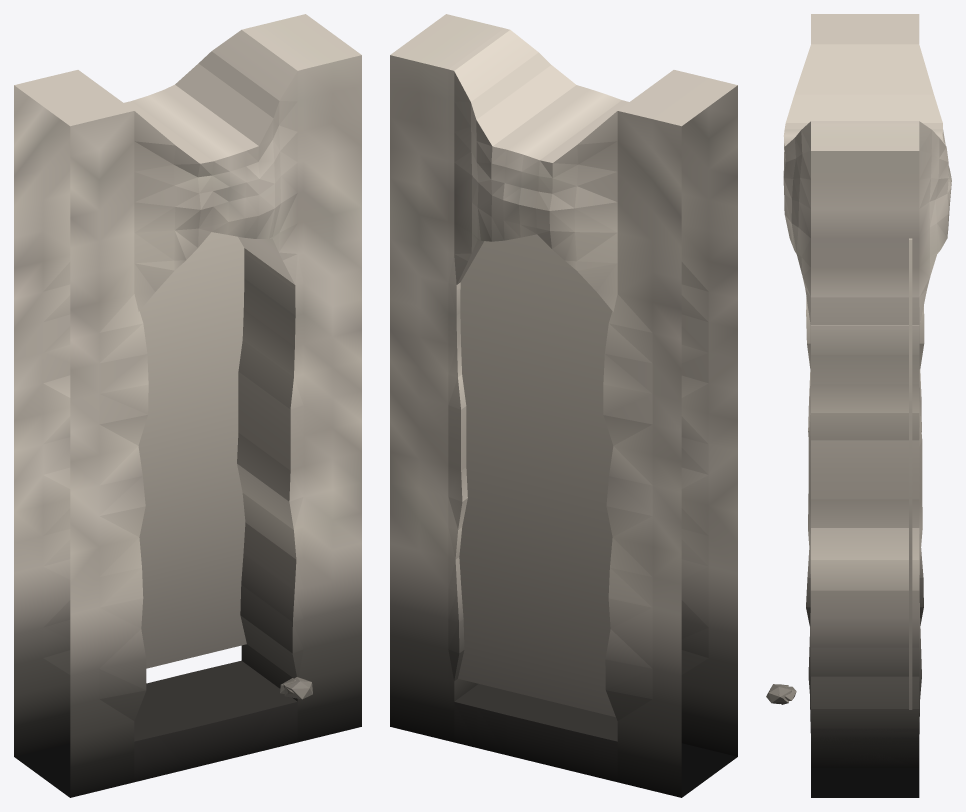
File: SM_VKI_Wall_Cave_Passage_150_Full.fbx
3 views of the same model, side by side, from view 1: azimuth 30°, elevation 25°; view 2: azimuth 150°, elevation 25°; view 3: azimuth 270°, elevation 25° (orthographic). The views are drawn at different scales.
Visible parts, largest first — view 1: SM_VKI_Wall_Cave_Passage_150_Full.001; view 2: SM_VKI_Wall_Cave_Passage_150_Full.001; view 3: SM_VKI_Wall_Cave_Passage_150_Full.001.
Boxes of the visible parts, x1,y1,x2,y2 form: SM_VKI_Wall_Cave_Passage_150_Full.001: (14, 14, 361, 797); SM_VKI_Wall_Cave_Passage_150_Full.001: (390, 14, 737, 797); SM_VKI_Wall_Cave_Passage_150_Full.001: (766, 14, 951, 797).
Bounding box in the file's own units: 1.5 × 3.3 × 0.8596.
